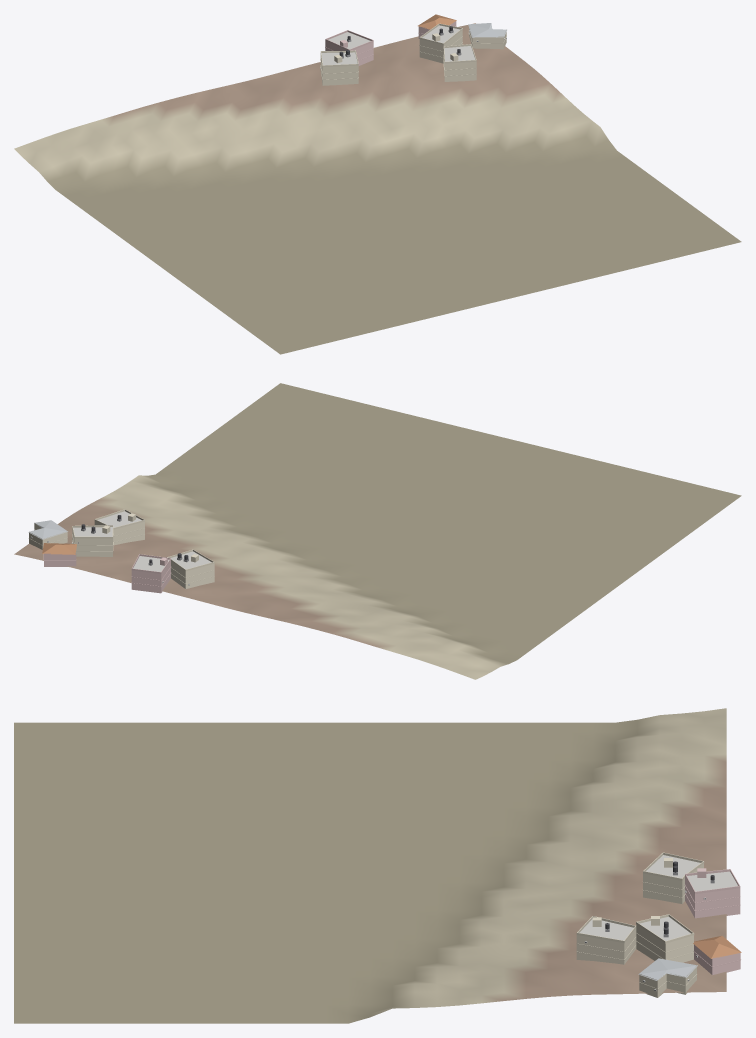
3 renders of one model, top to bottom at view 1: azimuth 30°, elevation 25°; view 2: azimuth 150°, elevation 25°; view 3: azimuth 270°, elevation 25°, orthographic. The views are drawn at different scales.
Parts seen in each view (by area): view 1: Terrain-col, Buildings-col, Details; view 2: Terrain-col, Buildings-col, Details; view 3: Terrain-col, Buildings-col, Details.
Boxes of the visible parts, bbox=[...] form: Terrain-col: bbox=[14, 23, 741, 354]; Buildings-col: bbox=[320, 14, 506, 85]; Details: bbox=[320, 23, 506, 79]; Terrain-col: bbox=[14, 383, 741, 679]; Buildings-col: bbox=[28, 511, 214, 593]; Details: bbox=[28, 509, 214, 586]; Terrain-col: bbox=[14, 708, 726, 1023]; Buildings-col: bbox=[576, 855, 741, 997]; Details: bbox=[576, 852, 740, 991].
Bounding box in the file's own units: 259 × 25.64 × 262.
